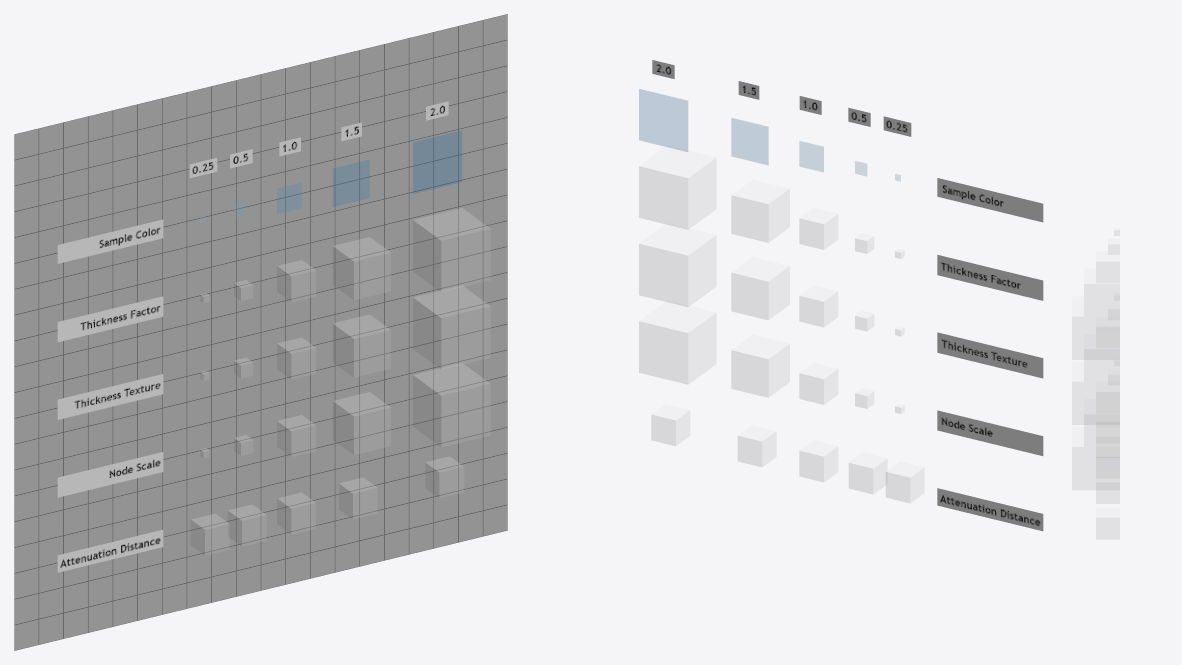
File: AttenuationTest.gltf
3 renders of one model, left to right at view 1: azimuth 30°, elevation 25°; view 2: azimuth 150°, elevation 25°; view 3: azimuth 270°, elevation 25°, orthographic. The views are drawn at different scales.
Parts seen in each view (by area): view 1: MeterGrid, Labels, R3_Block_Row, R2_Block_2.0, R4_Block_2.0, R4_Block_1.5, R2_Block_1.5, R1_Sample_2.0, R1_Sample_1.5, R5_Block_0.50, R4_Block_1.0, R5_Block_1.0 (+4 smaller); view 2: Labels, R3_Block_Row, R2_Block_2.0, R4_Block_2.0, R2_Block_1.5, R4_Block_1.5, R1_Sample_2.0, R1_Sample_1.5, R5_Block_2.0, R2_Block_1.0, R4_Block_1.0, R5_Block_1.5 (+3 smaller); view 3: R3_Block_Row, R2_Block_2.0, R4_Block_2.0, R4_Block_1.5, R2_Block_1.5, R2_Block_1.0, R5_Block_2.0, R5_Block_1.5, R5_Block_1.0, R4_Block_1.0, R2_Block_0.50.
Boxes of the visible parts, x1=… form: MeterGrid: x1=14, y1=14, x2=507, y2=650; Labels: x1=57, y1=101, x2=448, y2=572; R3_Block_Row: x1=200, y1=286, x2=490, y2=380; R2_Block_2.0: x1=413, y1=208, x2=490, y2=291; R4_Block_2.0: x1=413, y1=363, x2=490, y2=446; R4_Block_1.5: x1=333, y1=392, x2=390, y2=454; R2_Block_1.5: x1=333, y1=237, x2=390, y2=299; R1_Sample_2.0: x1=413, y1=131, x2=461, y2=193; R1_Sample_1.5: x1=333, y1=160, x2=369, y2=206; R5_Block_0.50: x1=228, y1=505, x2=266, y2=546; R4_Block_1.0: x1=277, y1=415, x2=315, y2=456; R5_Block_1.0: x1=277, y1=493, x2=315, y2=534; Labels: x1=652, y1=60, x2=1043, y2=531; R3_Block_Row: x1=639, y1=223, x2=904, y2=335; R2_Block_2.0: x1=639, y1=146, x2=716, y2=229; R4_Block_2.0: x1=639, y1=301, x2=716, y2=384; R2_Block_1.5: x1=731, y1=180, x2=789, y2=242; R4_Block_1.5: x1=731, y1=335, x2=789, y2=397; R1_Sample_2.0: x1=639, y1=89, x2=687, y2=151; R1_Sample_1.5: x1=731, y1=118, x2=768, y2=164; R5_Block_2.0: x1=651, y1=404, x2=689, y2=445; R2_Block_1.0: x1=799, y1=208, x2=837, y2=249; R4_Block_1.0: x1=799, y1=363, x2=837, y2=404; R5_Block_1.5: x1=738, y1=425, x2=776, y2=466; R3_Block_Row: x1=1072, y1=293, x2=1119, y2=424; R2_Block_2.0: x1=1072, y1=296, x2=1119, y2=359; R4_Block_2.0: x1=1072, y1=427, x2=1119, y2=489; R4_Block_1.5: x1=1084, y1=399, x2=1119, y2=446; R2_Block_1.5: x1=1084, y1=269, x2=1119, y2=315; R2_Block_1.0: x1=1096, y1=251, x2=1119, y2=282; R5_Block_2.0: x1=1096, y1=508, x2=1119, y2=539; R5_Block_1.5: x1=1096, y1=473, x2=1119, y2=503; R5_Block_1.0: x1=1096, y1=447, x2=1119, y2=472; R4_Block_1.0: x1=1096, y1=382, x2=1119, y2=398; R2_Block_0.50: x1=1108, y1=239, x2=1119, y2=254.
Bounding box in the file's own units: 20 × 20 × 4.
18 materials, 2 textured.
